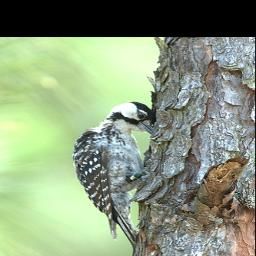Woodpecker: (70, 101, 156, 247)
